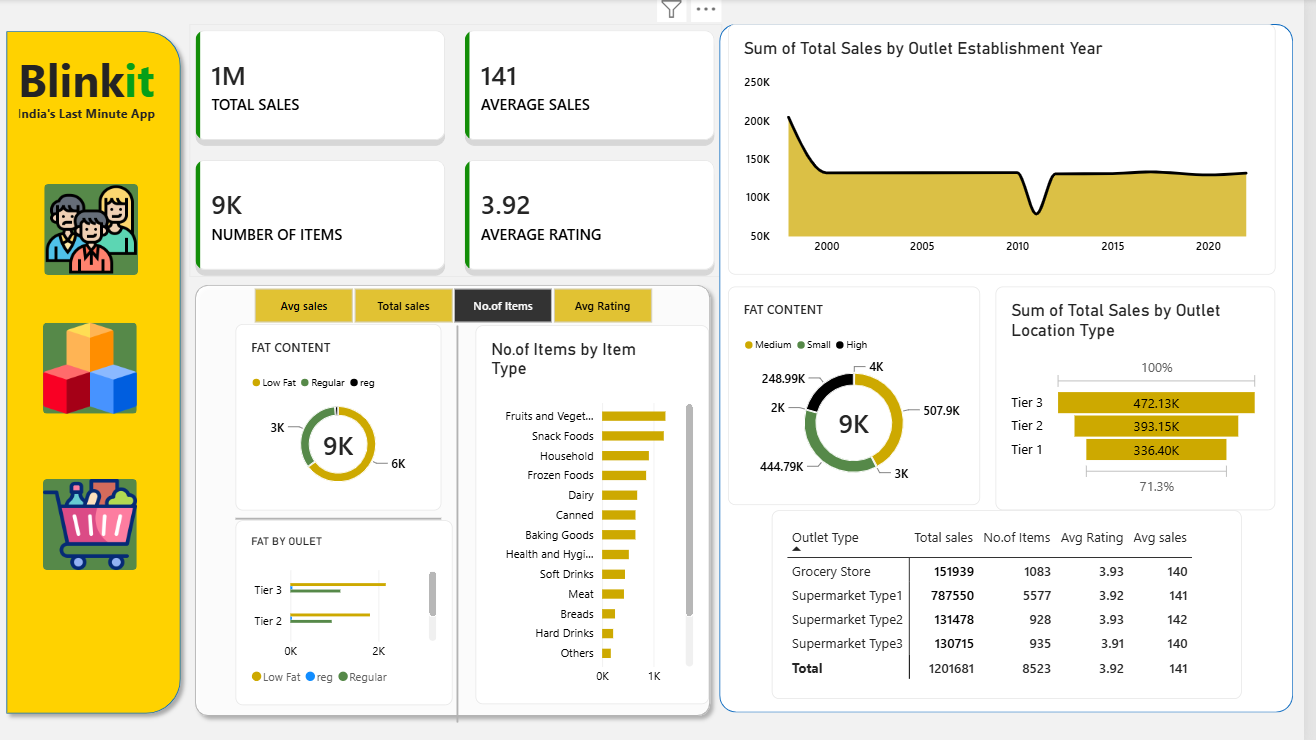

This screenshot's page, from the dashboard's own definition file:
{"tool":"powerbi","page":{"name":"Page 1","canvas":[1400,800],"ordinal":0},"visuals":[{"type":"shape","box":[0,25.5,205,750],"z":0},{"type":"textbox","box":[21,54,162.1,84],"z":1000},{"type":"textbox","box":[21,112.6,205.6,25.5],"z":2000},{"type":"cardVisual","fields":{"Data":["Measure Table.Total sales","Measure Table.Avg sales","Measure Table.No.of Items","Measure Table.Avg Rating"]},"box":[205.6,27,570,270],"z":3000},{"type":"shape","box":[202.6,297.2,570.3,480.3],"z":4000},{"type":"donutChart","title":"FAT CONTENT","fields":{"Category":["BlinkIT Grocery Data.Item Fat Content"],"Y":["Measure Table.No.of Items"]},"box":[255.1,348.2,220.6,199.6],"z":5000},{"type":"slicer","fields":{"Values":["matrix.matrix"]},"box":[255.1,307.7,465,40],"z":6000},{"type":"cardVisual","fields":{"Data":["Sum(BlinkIT Grocery Data.Total Sales)"]},"box":[912.5,160.6,141.1,78],"z":7000},{"type":"clusteredBarChart","title":"FAT BY OULET","fields":{"Category":["BlinkIT Grocery Data.Outlet Location Type"],"Series":["BlinkIT Grocery Data.Item Fat Content"],"Y":["Measure Table.No.of Items"]},"box":[255.1,558.3,232.6,198.1],"z":8000},{"type":"shape","box":[255.1,541.8,220.6,31.5],"z":9000},{"type":"shape","box":[472.8,349.7,39,426.2],"z":10000},{"type":"clusteredBarChart","fields":{"Category":["BlinkIT Grocery Data.Item Type"],"Y":["Measure Table.No.of Items"]},"box":[511.8,349.7,250.6,406.7],"z":11000},{"type":"shape","box":[772.9,27,615.4,738.4],"z":12000},{"type":"lineChart","fields":{"Category":["BlinkIT Grocery Data.Outlet Establishment Year"],"Y":["Sum(BlinkIT Grocery Data.Total Sales)"]},"box":[783.5,27,586.8,268.7],"z":13000},{"type":"donutChart","title":"FAT CONTENT","fields":{"Category":["BlinkIT Grocery Data.Outlet Size"],"Y":["Measure Table.No.of Items","Sum(BlinkIT Grocery Data.Total Sales)"]},"box":[783.5,307.7,270.2,234.1],"z":14000},{"type":"funnel","fields":{"Category":["BlinkIT Grocery Data.Outlet Location Type"],"Y":["Sum(BlinkIT Grocery Data.Total Sales)"]},"box":[1070.1,307.7,300.2,240.1],"z":15000},{"type":"pivotTable","fields":{"Rows":["BlinkIT Grocery Data.Outlet Type"],"Values":["Measure Table.Total sales","Measure Table.No.of Items","Measure Table.Avg Rating","Measure Table.Avg sales"]},"box":[830,547.8,504.3,202.6],"z":15001},{"type":"actionButton","box":[49.5,197.9,100.6,97.6],"z":15003},{"type":"actionButton","box":[48.2,347.6,100.6,97.6],"z":15004},{"type":"actionButton","box":[48.2,514.5,100.6,97.6],"z":15005}]}

Visuals, with their boxes in screenshot pixels (x1, y1, x2, y2), scaled from the page's 1400x800 canvas onto the 1316x740 screenshot:
shape: [left=0, top=24, right=193, bottom=717]
textbox: [left=20, top=50, right=172, bottom=128]
textbox: [left=20, top=104, right=213, bottom=128]
cardVisual - Measure Table.Total sales x Measure Table.Avg sales: [left=193, top=25, right=729, bottom=275]
shape: [left=190, top=275, right=727, bottom=719]
"FAT CONTENT" donutChart: [left=240, top=322, right=447, bottom=507]
slicer - matrix.matrix: [left=240, top=285, right=677, bottom=322]
cardVisual - Sum(BlinkIT Grocery Data.Total Sales): [left=858, top=149, right=990, bottom=221]
"FAT BY OULET" clusteredBarChart: [left=240, top=516, right=458, bottom=700]
shape: [left=240, top=501, right=447, bottom=530]
shape: [left=444, top=323, right=481, bottom=718]
clusteredBarChart - BlinkIT Grocery Data.Item Type x Measure Table.No.of Items: [left=481, top=323, right=717, bottom=700]
shape: [left=727, top=25, right=1305, bottom=708]
lineChart - BlinkIT Grocery Data.Outlet Establishment Year x Sum(BlinkIT Grocery Data.Total Sales): [left=736, top=25, right=1288, bottom=274]
"FAT CONTENT" donutChart: [left=736, top=285, right=990, bottom=501]
funnel - BlinkIT Grocery Data.Outlet Location Type x Sum(BlinkIT Grocery Data.Total Sales): [left=1006, top=285, right=1288, bottom=507]
pivotTable - BlinkIT Grocery Data.Outlet Type x Measure Table.Total sales: [left=780, top=507, right=1254, bottom=694]
actionButton: [left=47, top=183, right=141, bottom=273]
actionButton: [left=45, top=322, right=140, bottom=412]
actionButton: [left=45, top=476, right=140, bottom=566]
